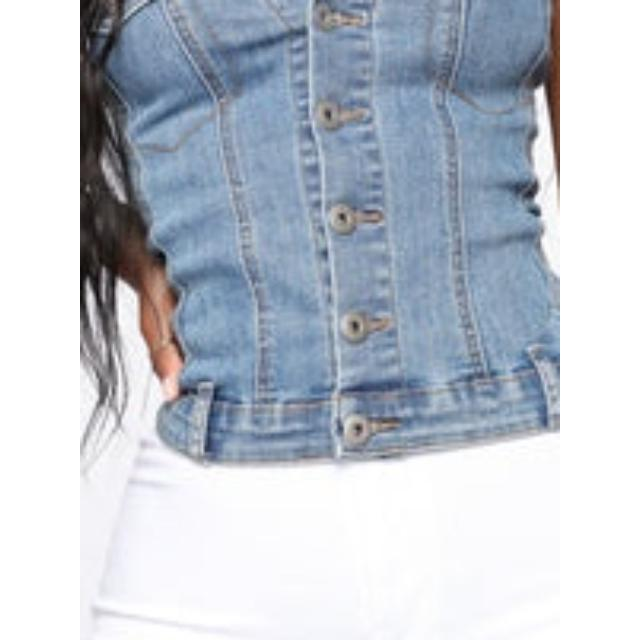denim: (125, 1, 561, 440)
